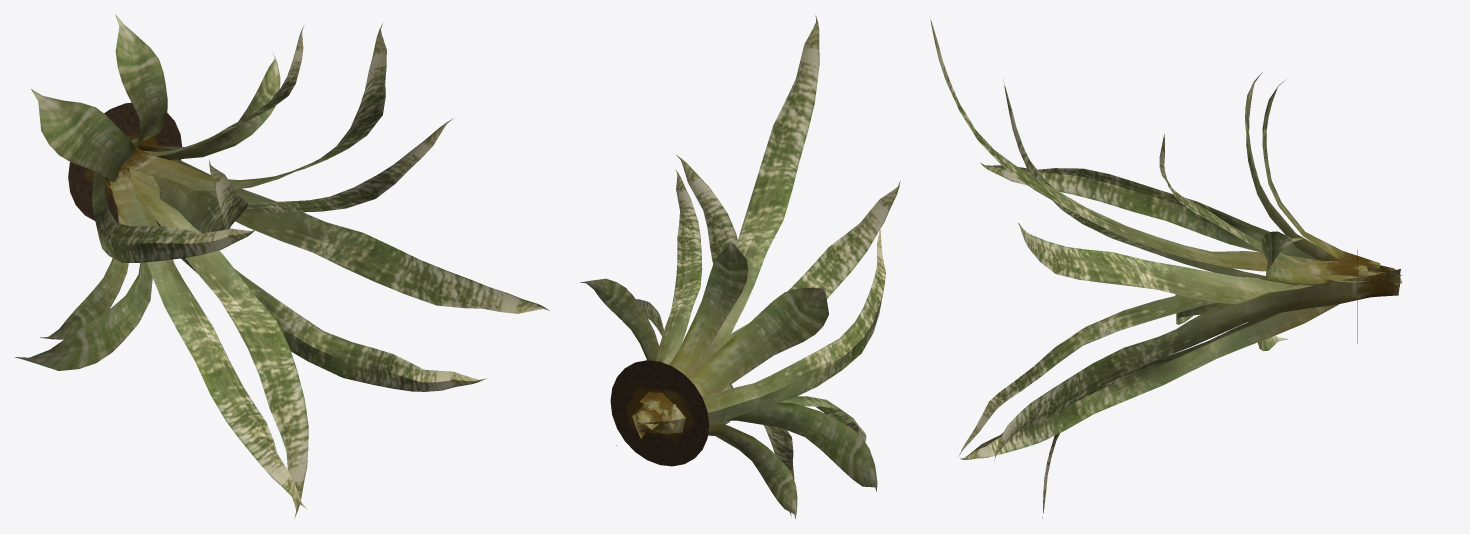
File: MeshHouseplant_8_0_GeomSubset_2.obj
The picture shows the model from 3 angles, left to right: view 1: azimuth 30°, elevation 25°; view 2: azimuth 150°, elevation 25°; view 3: azimuth 270°, elevation 25°; orthographic projection. The views are drawn at different scales.
Parts seen in each view (by area): view 1: MeshHouseplant_8_0_GeomSubset_2; view 2: MeshHouseplant_8_0_GeomSubset_2; view 3: MeshHouseplant_8_0_GeomSubset_2.
Part boxes in pixels (box(x1,y1,x2,y2)): MeshHouseplant_8_0_GeomSubset_2: box(15, 14, 549, 518); MeshHouseplant_8_0_GeomSubset_2: box(580, 15, 900, 518); MeshHouseplant_8_0_GeomSubset_2: box(930, 19, 1402, 518).
Size of the model in its own units: 0.4988 by 0.6037 by 0.553.
